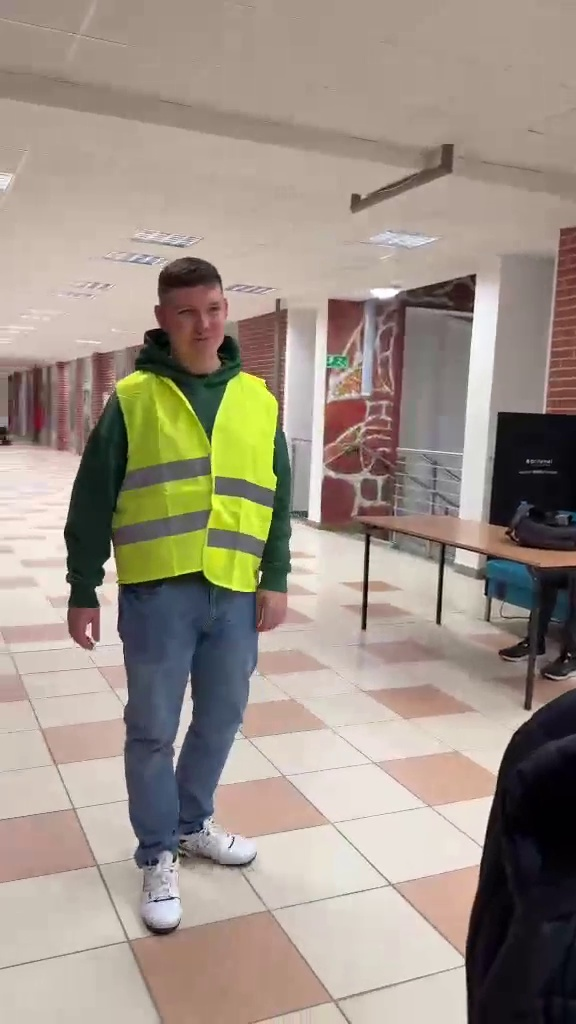vest: (63, 258, 284, 937)
